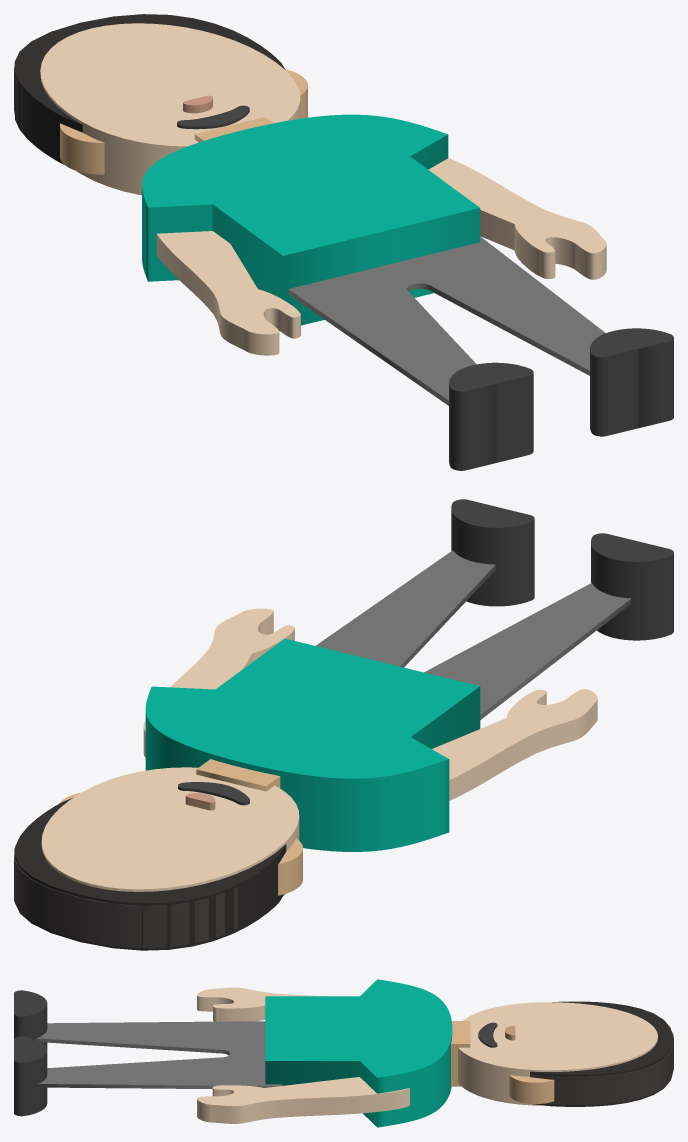
The model's file is emoji_u1f9cd_1f3fb_200d_2642.glb.
3 renders of one model, top to bottom at view 1: azimuth 30°, elevation 25°; view 2: azimuth 150°, elevation 25°; view 3: azimuth 270°, elevation 25°, orthographic. The views are drawn at different scales.
Parts seen in each view (by area): view 1: emoji_u1f9cd_1f3fb_200d_2642; view 2: emoji_u1f9cd_1f3fb_200d_2642; view 3: emoji_u1f9cd_1f3fb_200d_2642.
Boxes of the visible parts, <box> form: emoji_u1f9cd_1f3fb_200d_2642: <box>14,14,673,470</box>; emoji_u1f9cd_1f3fb_200d_2642: <box>14,499,673,950</box>; emoji_u1f9cd_1f3fb_200d_2642: <box>14,979,673,1127</box>.
Size of the model in its own units: 0.0145 by 0.003 by 0.0336.
